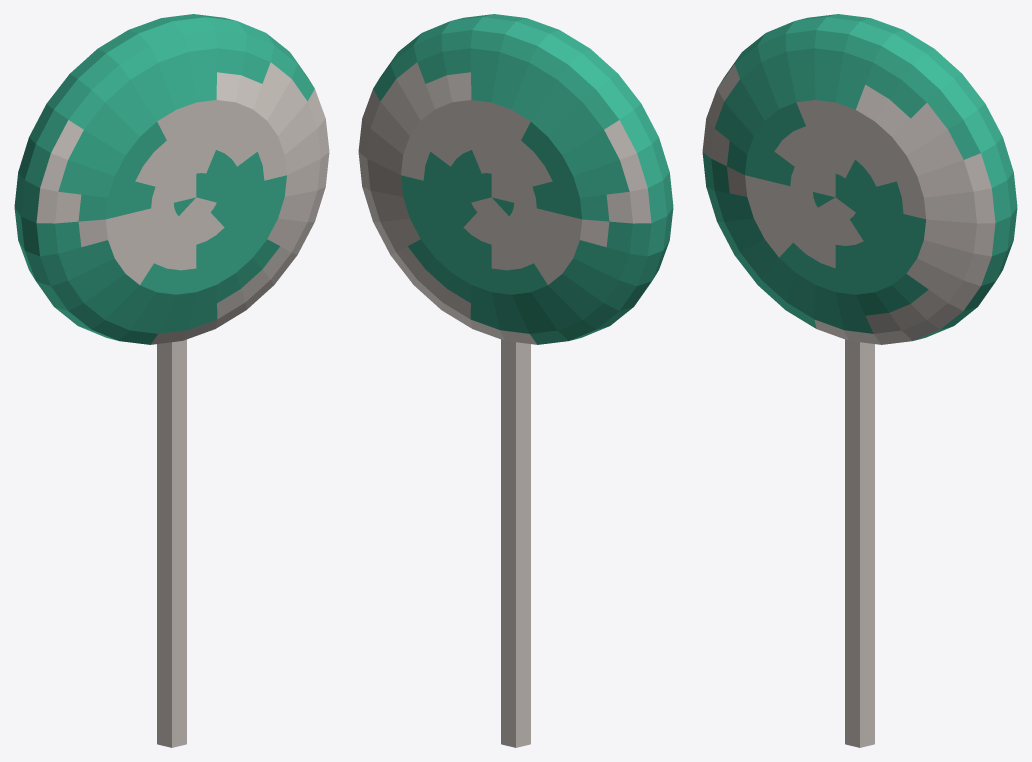
File: Lollipop_Mint.glb
3 renders of one model, left to right at view 1: azimuth 30°, elevation 25°; view 2: azimuth 150°, elevation 25°; view 3: azimuth 330°, elevation 25°, orthographic.
Visible parts, largest first — view 1: Lollipop_Mint; view 2: Lollipop_Mint; view 3: Lollipop_Mint.
Boxes of the visible parts, x1,y1,x2,y2 form: Lollipop_Mint: (14,14,329,747); Lollipop_Mint: (358,14,673,747); Lollipop_Mint: (702,14,1017,747).
Bounding box in the file's own units: 2 × 4.55 × 0.56.
